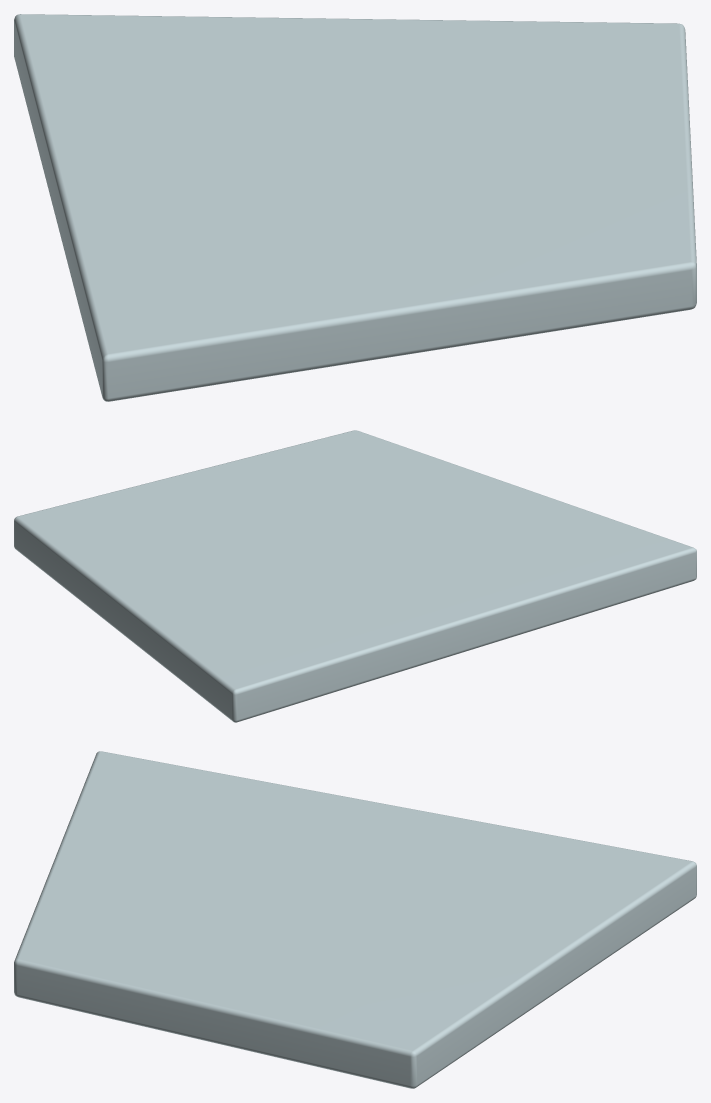
Rendered from ZH_PROP_LAB_GlassShard_03.fbx.
3 renders of one model, top to bottom at view 1: azimuth 30°, elevation 25°; view 2: azimuth 150°, elevation 25°; view 3: azimuth 270°, elevation 25°, orthographic. The views are drawn at different scales.
Visible parts, largest first — view 1: Shard | thick edges.005; view 2: Shard | thick edges.005; view 3: Shard | thick edges.005.
Boxes of the visible parts, bbox=[...] form: Shard | thick edges.005: bbox=[14, 14, 696, 401]; Shard | thick edges.005: bbox=[14, 430, 696, 722]; Shard | thick edges.005: bbox=[14, 751, 696, 1088].
Bounding box in the file's own units: 0.0429 × 0.0025 × 0.0408.
